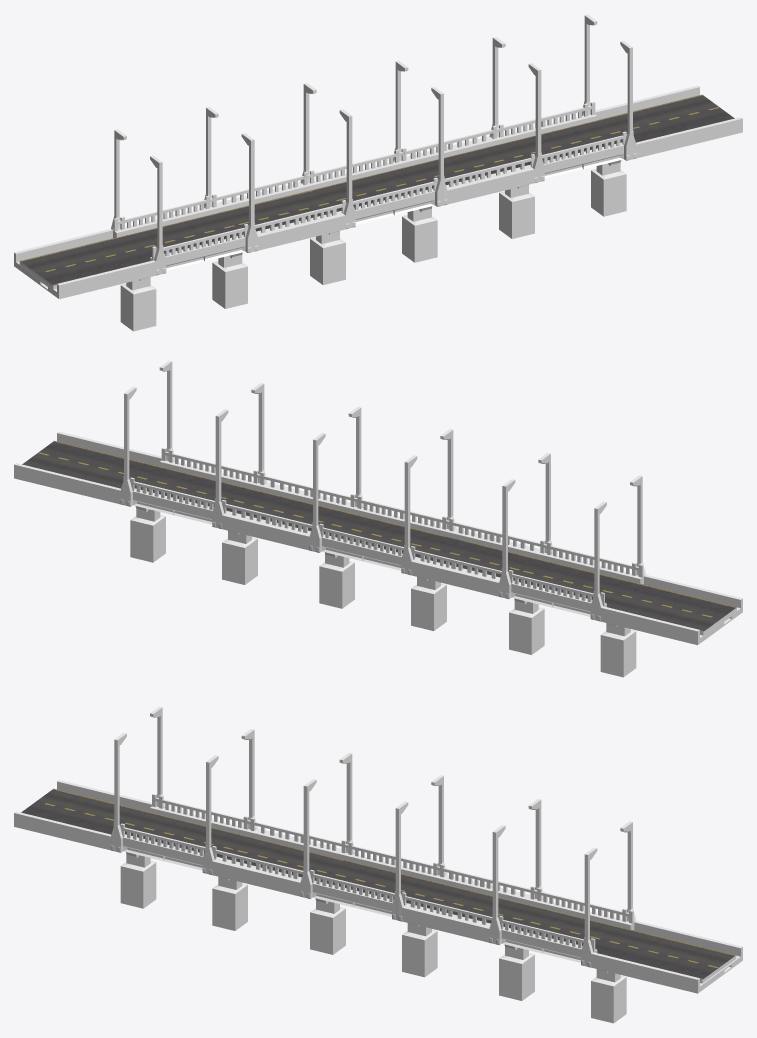
File: bridge.obj
The picture shows the model from 3 angles, top to bottom: view 1: azimuth 30°, elevation 25°; view 2: azimuth 150°, elevation 25°; view 3: azimuth 330°, elevation 25°; orthographic projection.
Parts seen in each view (by area): view 1: Cube.003_Cube.004, Cube.000_Cube.010, Cube.006_Cube.008, Cube.008_Cube.000, Cube.009_Cube.001, Cube.004_Cube.005, Cube.005_Cube.017, Cube.002_Cube.016, Cube.001_Cube.015, Cube.007_Cube.009; view 2: Cube.003_Cube.004, Cube.000_Cube.010, Cube.006_Cube.008, Cube.008_Cube.000, Cube.009_Cube.001, Cube.004_Cube.005, Cube.001_Cube.015, Cube.002_Cube.016, Cube.005_Cube.017, Cube.007_Cube.009; view 3: Cube.000_Cube.010, Cube.003_Cube.004, Cube.006_Cube.008, Cube.009_Cube.001, Cube.008_Cube.000, Cube.005_Cube.017, Cube.002_Cube.016, Cube.004_Cube.005, Cube.001_Cube.015, Cube.007_Cube.009.
Boxes of the visible parts, bbox=[...] form: Cube.003_Cube.004: bbox=[14, 107, 346, 331]; Cube.000_Cube.010: bbox=[404, 14, 742, 238]; Cube.006_Cube.008: bbox=[300, 60, 447, 284]; Cube.008_Cube.000: bbox=[19, 237, 149, 289]; Cube.009_Cube.001: bbox=[604, 94, 734, 142]; Cube.004_Cube.005: bbox=[120, 213, 243, 258]; Cube.005_Cube.017: bbox=[506, 118, 622, 161]; Cube.002_Cube.016: bbox=[410, 143, 530, 185]; Cube.001_Cube.015: bbox=[312, 166, 433, 210]; Cube.007_Cube.009: bbox=[216, 190, 339, 231]; Cube.003_Cube.004: bbox=[411, 453, 742, 677]; Cube.000_Cube.010: bbox=[14, 360, 350, 584]; Cube.006_Cube.008: bbox=[309, 406, 456, 630]; Cube.008_Cube.000: bbox=[607, 583, 736, 635]; Cube.009_Cube.001: bbox=[22, 440, 152, 488]; Cube.004_Cube.005: bbox=[513, 559, 636, 604]; Cube.001_Cube.015: bbox=[323, 512, 445, 557]; Cube.002_Cube.016: bbox=[226, 488, 346, 531]; Cube.005_Cube.017: bbox=[134, 465, 248, 507]; Cube.007_Cube.009: bbox=[418, 536, 540, 579]; Cube.000_Cube.010: bbox=[402, 799, 742, 1023]; Cube.003_Cube.004: bbox=[14, 706, 342, 930]; Cube.006_Cube.008: bbox=[300, 753, 447, 977]; Cube.009_Cube.001: bbox=[605, 931, 736, 983]; Cube.008_Cube.000: bbox=[21, 788, 152, 834]; Cube.005_Cube.017: bbox=[515, 908, 636, 954]; Cube.002_Cube.016: bbox=[415, 883, 540, 928]; Cube.004_Cube.005: bbox=[125, 813, 250, 857]; Cube.001_Cube.015: bbox=[316, 860, 441, 903]; Cube.007_Cube.009: bbox=[218, 836, 343, 880].
Bounding box in the file's own units: 25.6 × 6.36 × 2.96.
